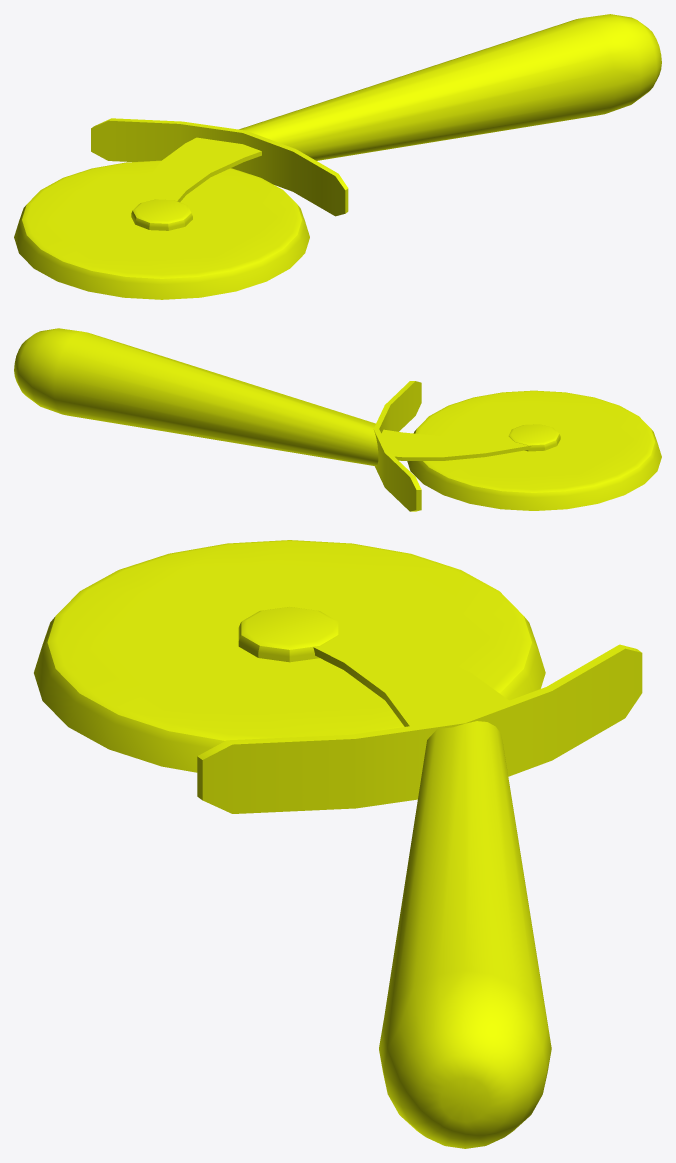
The model's file is Pizza_Wheel.fbx.
3 renders of one model, top to bottom at view 1: azimuth 30°, elevation 25°; view 2: azimuth 150°, elevation 25°; view 3: azimuth 270°, elevation 25°, orthographic. The views are drawn at different scales.
Visible parts, largest first — view 1: cutter_handle, wheel, wheel_guard, wheel_attachment, wheel_nut; view 2: cutter_handle, wheel, wheel_guard, wheel_attachment, wheel_nut; view 3: wheel, cutter_handle, wheel_guard, wheel_attachment, wheel_nut.
Boxes of the visible parts, box(x1,y1,x2,y2) form: cutter_handle: box(239, 14, 661, 160); wheel: box(14, 160, 309, 299); wheel_guard: box(91, 118, 348, 216); wheel_attachment: box(138, 137, 261, 204); wheel_nut: box(131, 199, 192, 230); cutter_handle: box(14, 328, 378, 466); wheel: box(407, 390, 661, 510); wheel_guard: box(373, 381, 421, 511); wheel_attachment: box(381, 429, 531, 460); wheel_nut: box(508, 424, 560, 451); wheel: box(34, 540, 545, 772); cutter_handle: box(379, 721, 551, 1148); wheel_guard: box(197, 644, 642, 813); wheel_attachment: box(313, 620, 508, 726); wheel_nut: box(238, 607, 338, 662).
Bounding box in the file's own units: 0.2597 × 0.0336 × 0.1184.
